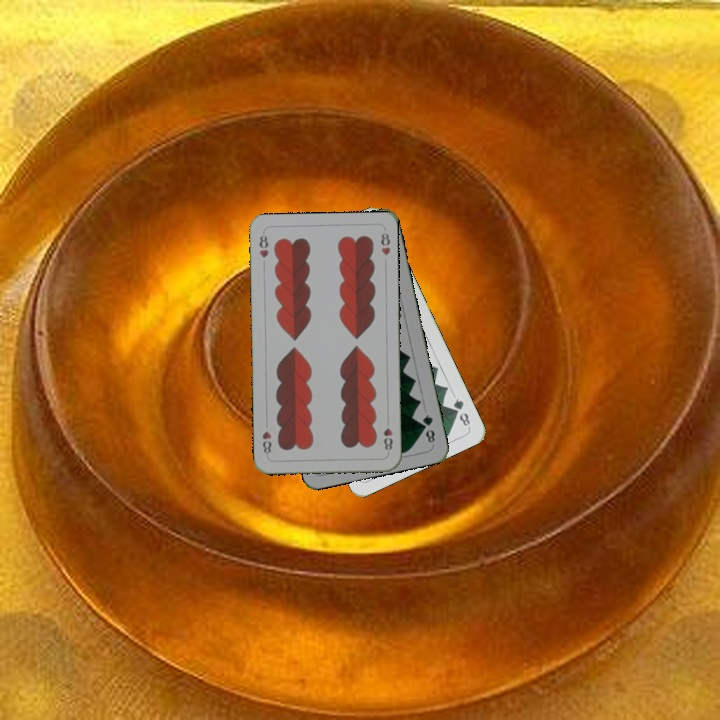G8: (449, 394, 472, 430), (418, 410, 437, 446)
H8: (255, 229, 271, 260), (380, 424, 395, 456)
